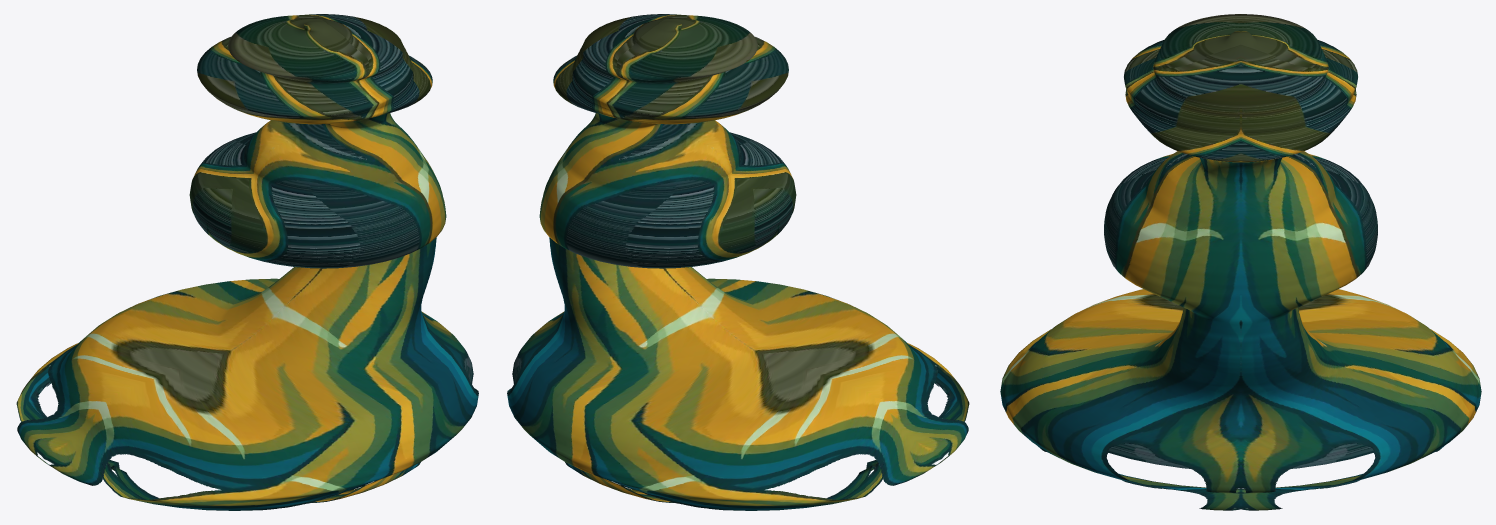
The model's file is root_arch_tree.glb.
3 renders of one model, left to right at view 1: azimuth 30°, elevation 25°; view 2: azimuth 150°, elevation 25°; view 3: azimuth 270°, elevation 25°, orthographic. The views are drawn at different scales.
Parts seen in each view (by area): view 1: root_arch_tree; view 2: root_arch_tree; view 3: root_arch_tree.
Boxes of the visible parts, x1=… form: root_arch_tree: x1=16, y1=14, x2=478, y2=510; root_arch_tree: x1=507, y1=14, x2=969, y2=510; root_arch_tree: x1=1000, y1=14, x2=1481, y2=510.
Bounding box in the file's own units: 0.9961 × 0.9301 × 0.9409.
Materials: 1 (1 with a texture image).
